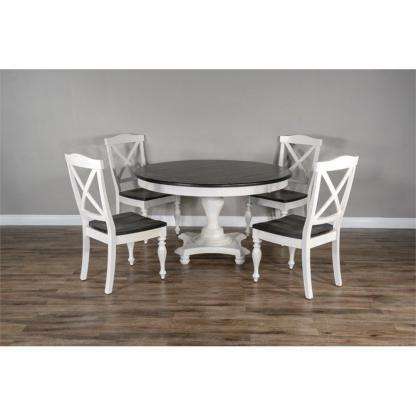chair: (249, 145, 374, 302), (63, 153, 171, 294), (102, 122, 175, 210), (245, 130, 318, 209)
table: (137, 155, 289, 267)
